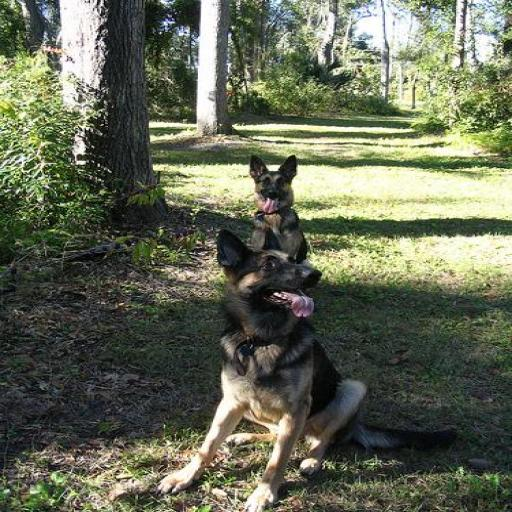dog_face: (213, 222, 322, 332), (244, 154, 302, 210)
